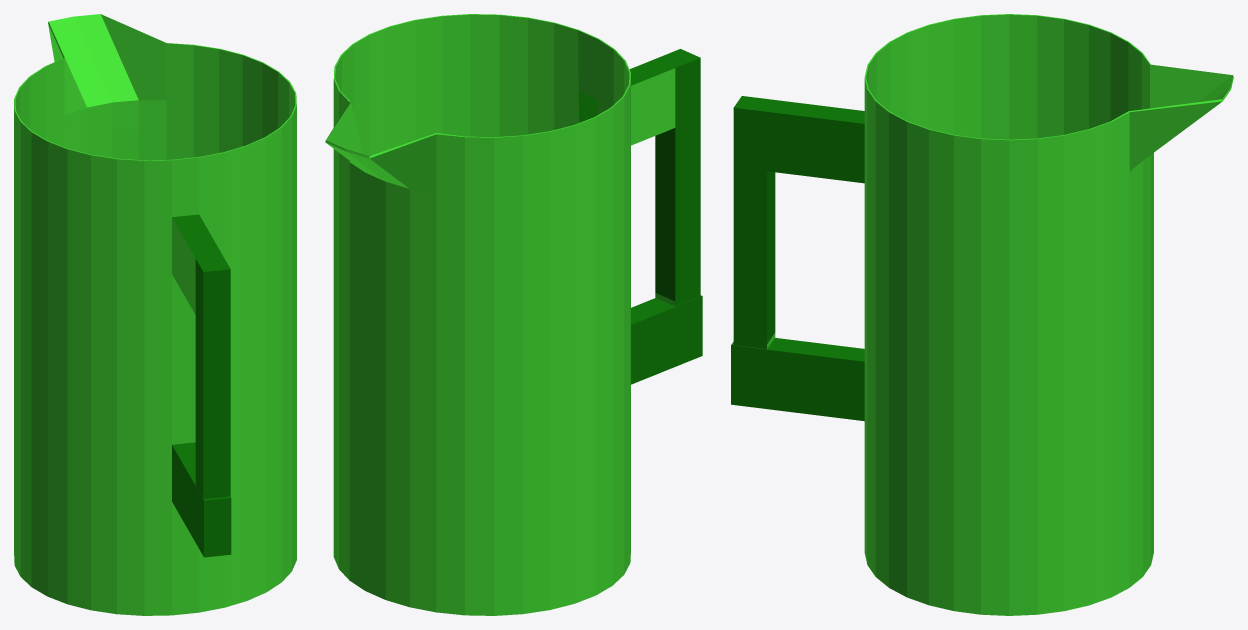
Rendered from Teko.fbx.
3 renders of one model, left to right at view 1: azimuth 30°, elevation 25°; view 2: azimuth 150°, elevation 25°; view 3: azimuth 270°, elevation 25°, orthographic. The views are drawn at different scales.
Visible parts, largest first — view 1: Cylinder; view 2: Cylinder; view 3: Cylinder.
Part boxes in pixels (x1,y1,x2,y2): Cylinder: (14,14,296,615); Cylinder: (325,14,702,615); Cylinder: (731,14,1233,615).
Size of the model in its own units: 114 by 201 by 192.
